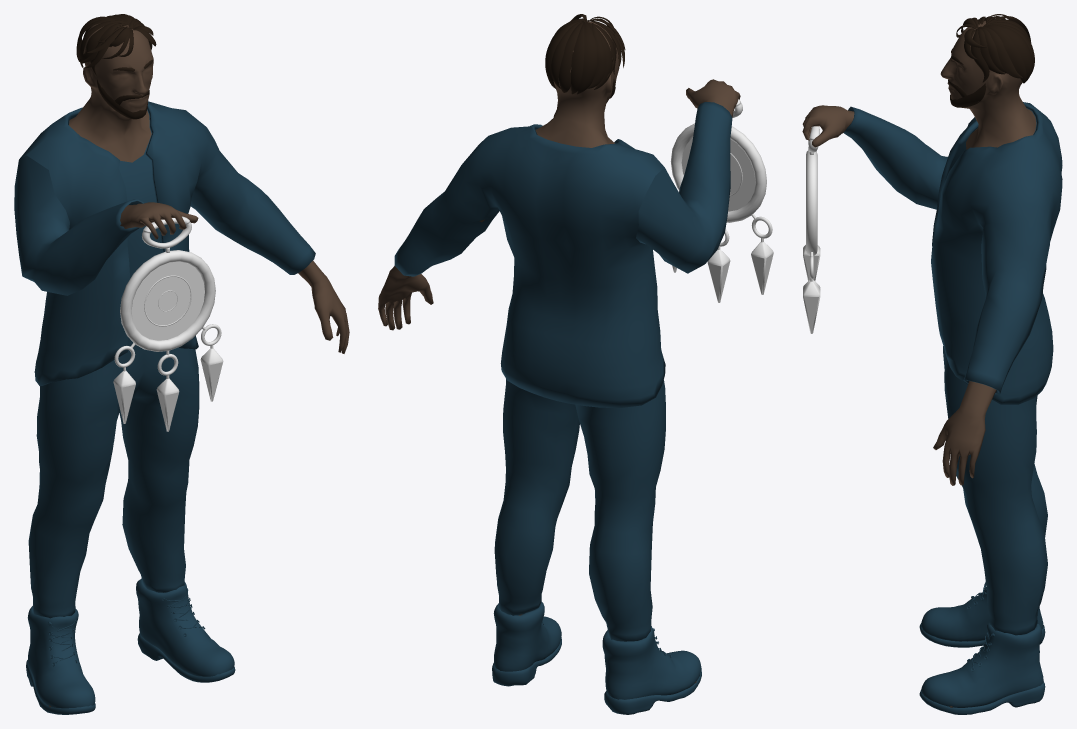
The model's file is Jim.fbx.
3 views of the same model, side by side, from view 1: azimuth 30°, elevation 25°; view 2: azimuth 150°, elevation 25°; view 3: azimuth 270°, elevation 25° (orthographic).
Visible parts, largest first — view 1: Clothing.001, Jim.001, Catcher, Arm; view 2: Clothing.001, Arm, Jim.001, Catcher; view 3: Clothing.001, Jim.001, Arm, Catcher.
Boxes of the visible parts, x1,y1,x2,y2 form: Clothing.001: (20, 101, 315, 714); Jim.001: (49, 14, 349, 706); Catcher: (113, 216, 223, 431); Arm: (14, 155, 198, 295); Clothing.001: (394, 124, 701, 714); Arm: (636, 79, 740, 273); Jim.001: (378, 14, 696, 683); Catcher: (670, 89, 773, 302); Clothing.001: (919, 102, 1062, 714); Jim.001: (933, 14, 1036, 707); Arm: (802, 105, 947, 209); Catcher: (803, 126, 820, 333).
Bounding box in the file's own units: 0.9847 × 1.9 × 0.6854.
